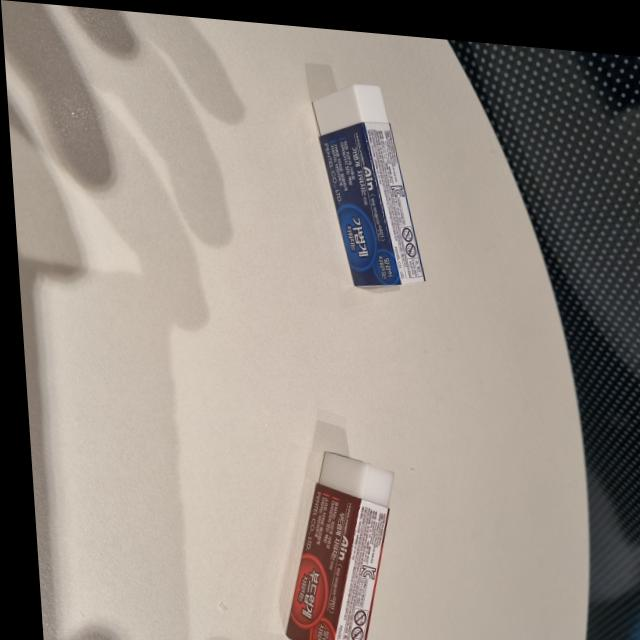blue: (305, 69, 424, 292)
red: (255, 449, 402, 640)
